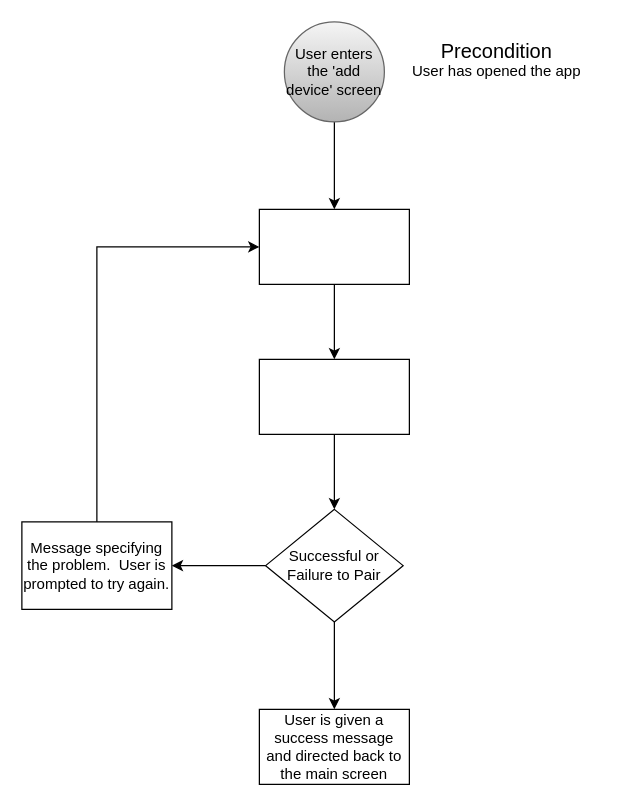
The diagram is 619 pixels wide and 806 high, and some of its shapes have lost their labels. The centre of each missing label's shape, as x and y in pixels:
"User clicks on a potential device" belongs at pixel 333 396.
"User is shown a list of available devices to set up as a 'secondary device'" belongs at pixel 333 246.
